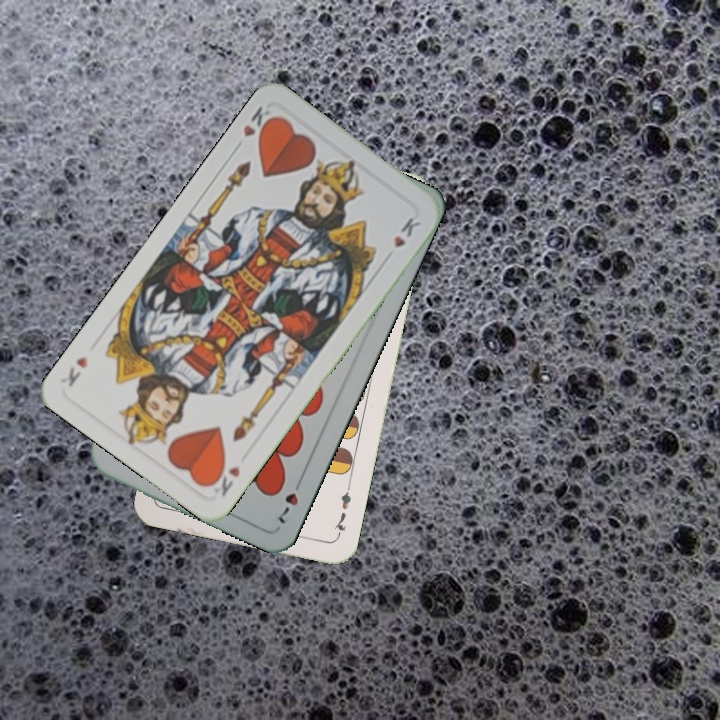E7: (329, 481, 354, 540)
H7: (274, 473, 305, 527)
HK: (230, 101, 278, 153), (205, 459, 243, 499)
